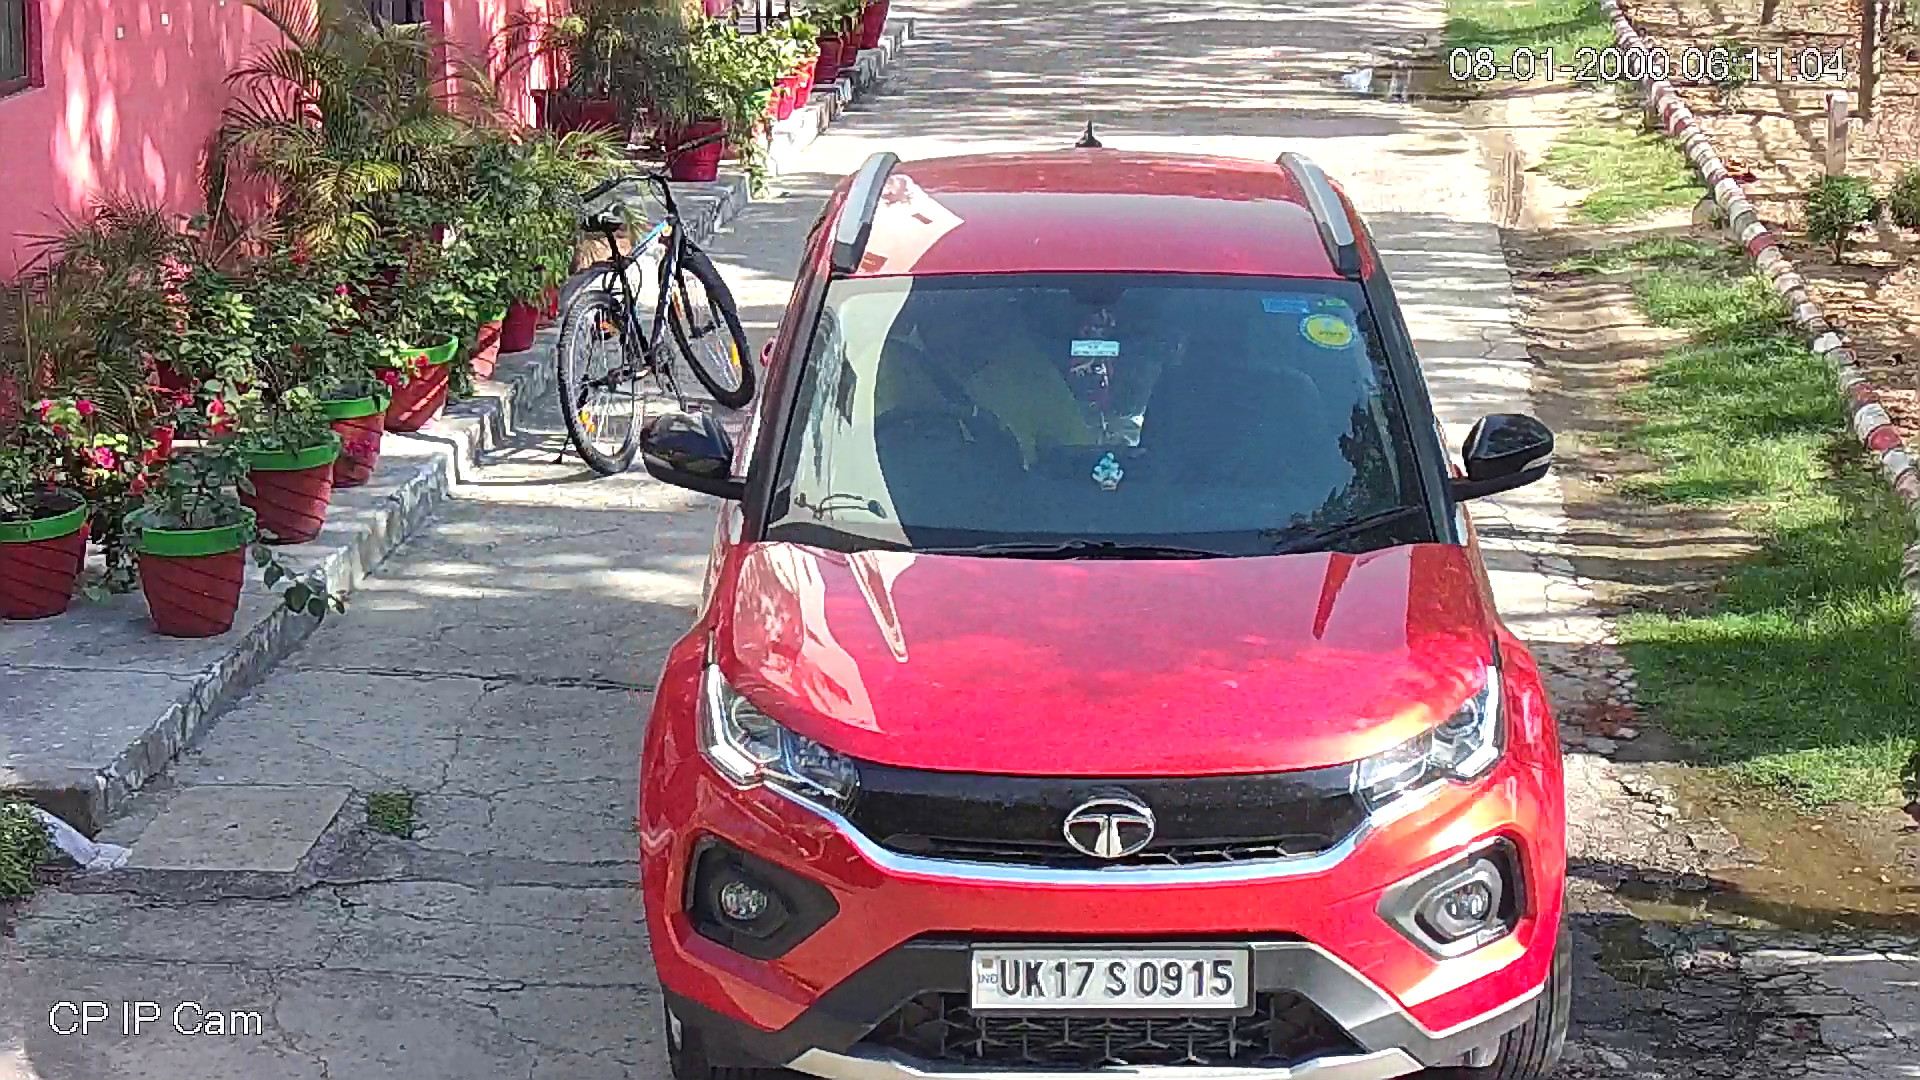plate: (966, 941, 1255, 1012)
